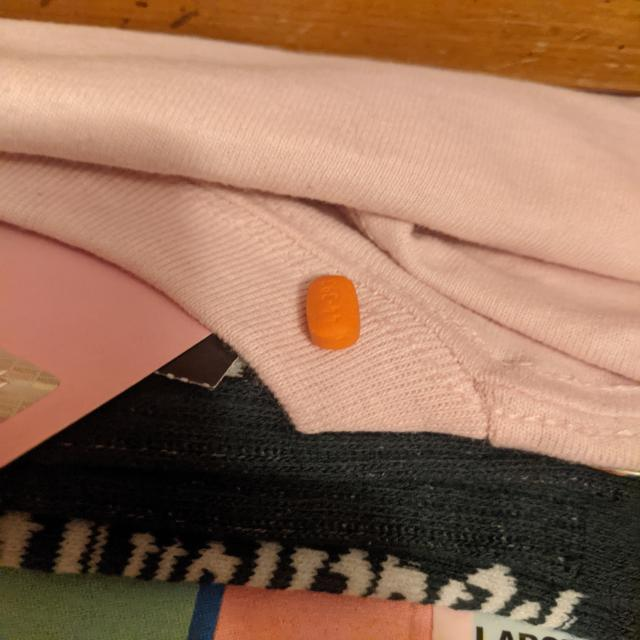non-organic waste: (304, 273, 364, 351)
